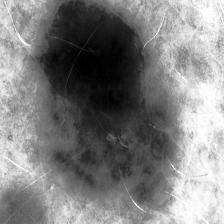Benign Marking or Mole: (35, 0, 182, 205)
